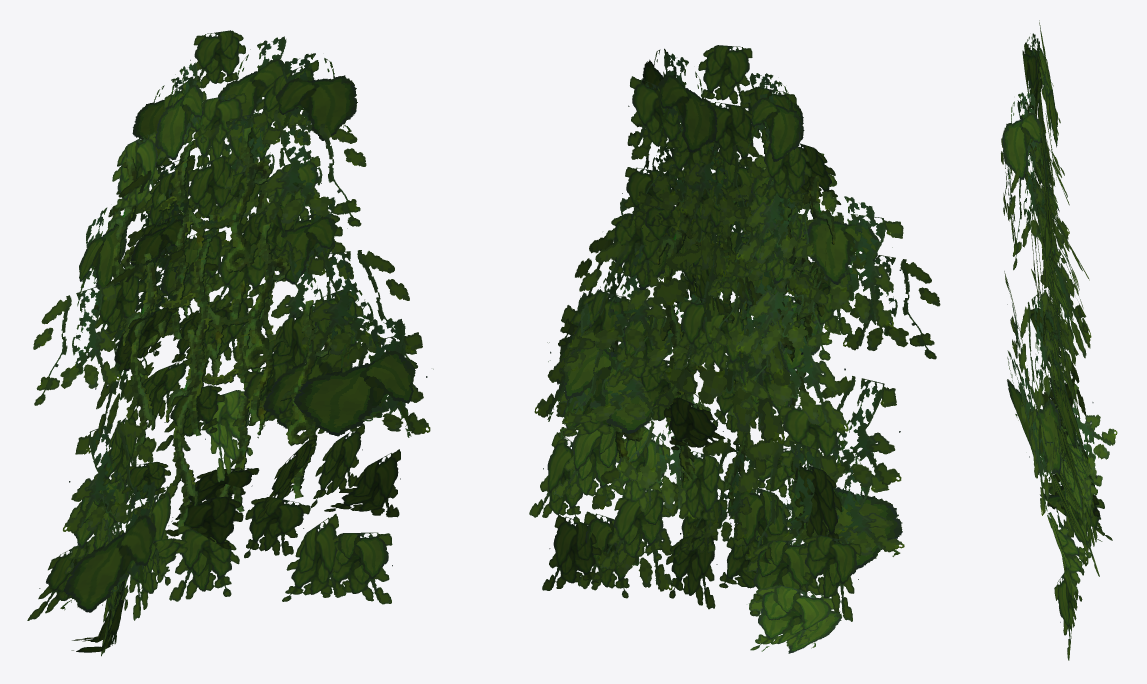
The model's file is ivyclump1.fbx.
The picture shows the model from 3 angles, left to right: view 1: azimuth 30°, elevation 25°; view 2: azimuth 150°, elevation 25°; view 3: azimuth 270°, elevation 25°; orthographic projection. The views are drawn at different scales.
Parts seen in each view (by area): view 1: ivywall; view 2: ivywall; view 3: ivywall.
Boxes of the visible parts, x1=… form: ivywall: x1=27, y1=30, x2=433, y2=656; ivywall: x1=529, y1=45, x2=940, y2=653; ivywall: x1=1001, y1=20, x2=1117, y2=660.
Size of the model in its own units: 335 by 428 by 101.
